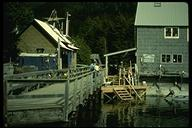dock: (6, 66, 135, 126)
house: (133, 4, 190, 80), (15, 9, 77, 73)
tree: (80, 9, 126, 48)
water: (93, 107, 189, 126)
